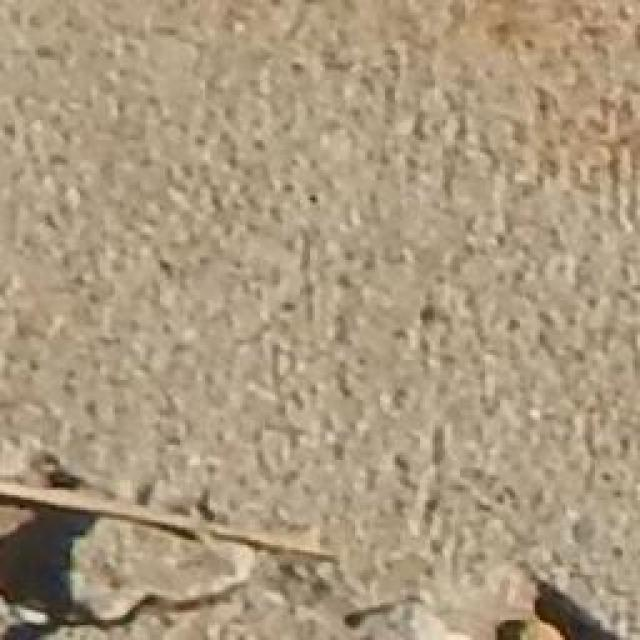concrete-crack: (0, 491, 339, 640), (483, 572, 640, 640)
